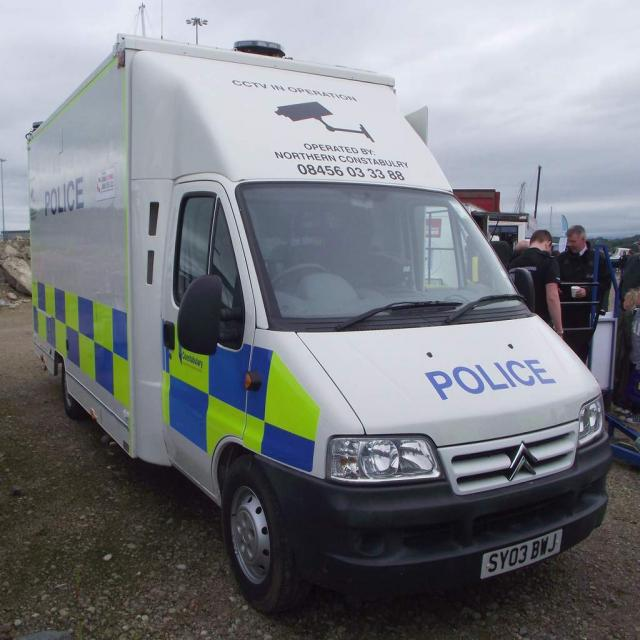Ambulance: (15, 25, 611, 616)
